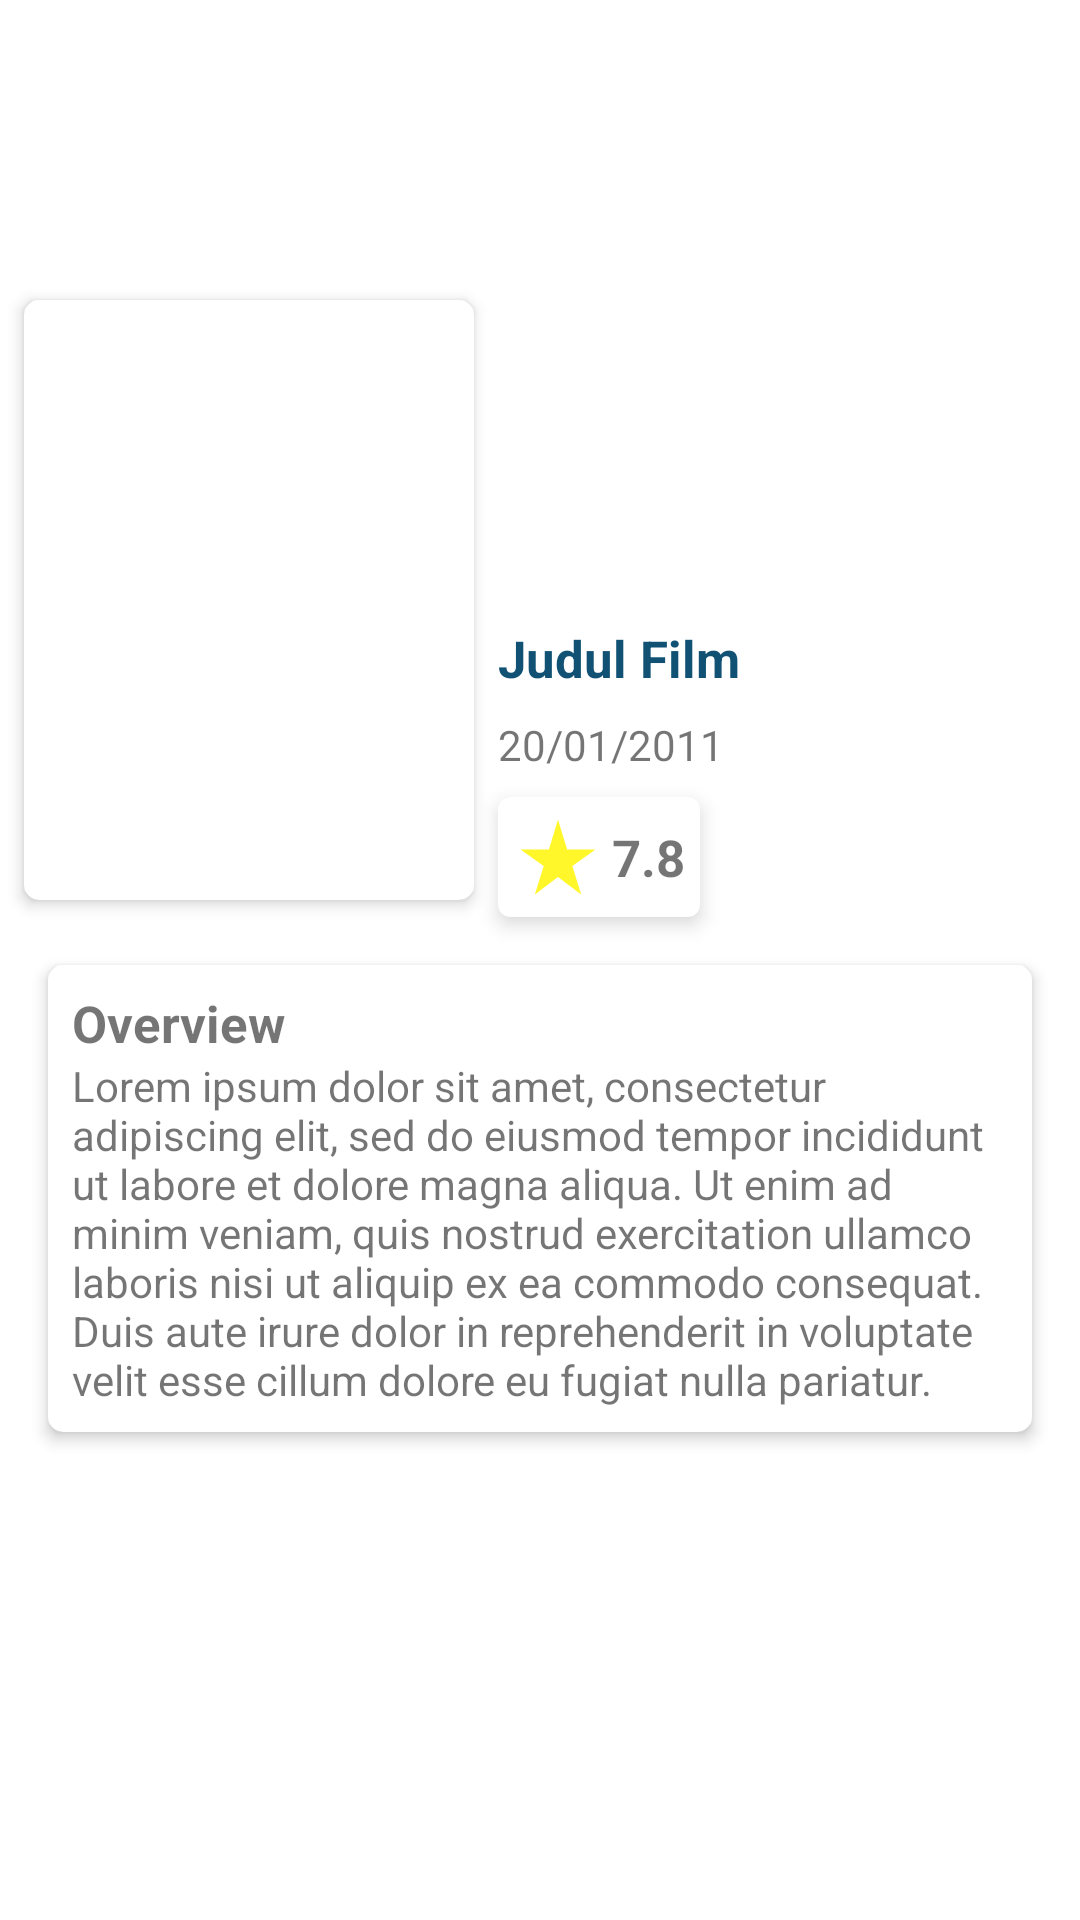

Icons on this 1080*1920 Android screen, each with its box as [x1, y1, x2, y2]:
rating: [521, 820, 595, 894]
